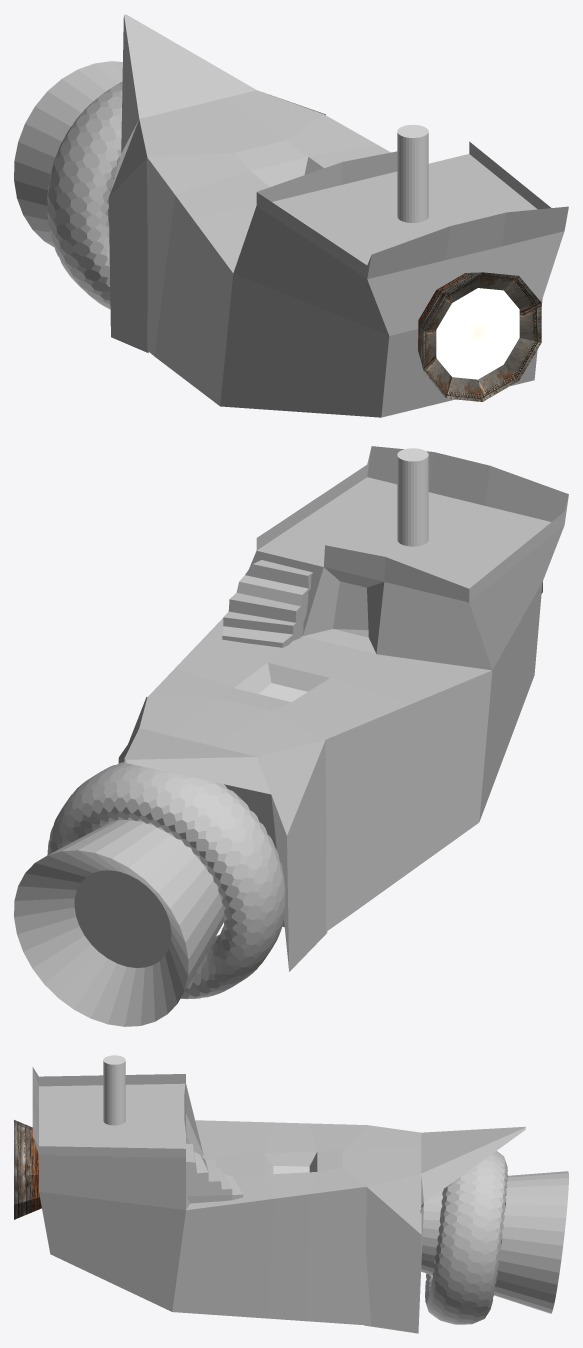
File: Ship.fbx
The picture shows the model from 3 angles, top to bottom: view 1: azimuth 30°, elevation 25°; view 2: azimuth 150°, elevation 25°; view 3: azimuth 270°, elevation 25°; orthographic projection. The views are drawn at different scales.
Parts seen in each view (by area): view 1: Ship, Rocket, HooverMountingBracket, Hoover, PlayerReference; view 2: Ship, Hoover, HooverMountingBracket, PlayerReference; view 3: Ship, HooverMountingBracket, Hoover, Rocket, PlayerReference.
Part boxes in pixels (x1,y1,x2,y2): Ship: [108, 14, 568, 417]; Rocket: [418, 272, 541, 401]; HooverMountingBracket: [47, 81, 122, 309]; Hoover: [14, 61, 122, 247]; PlayerReference: [397, 124, 428, 222]; Ship: [118, 446, 568, 971]; Hoover: [14, 820, 224, 1026]; HooverMountingBracket: [47, 762, 285, 999]; PlayerReference: [397, 448, 428, 546]; Ship: [32, 1067, 525, 1333]; HooverMountingBracket: [425, 1151, 507, 1324]; Hoover: [421, 1171, 568, 1313]; Rocket: [14, 1120, 41, 1219]; PlayerReference: [103, 1055, 125, 1125].
Size of the model in its own units: 486 by 643 by 1263.
